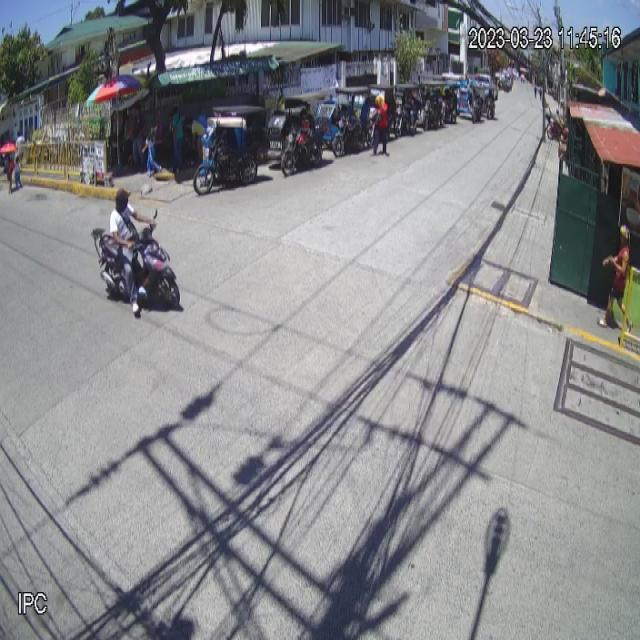Motorcycle: (89, 207, 181, 308)
